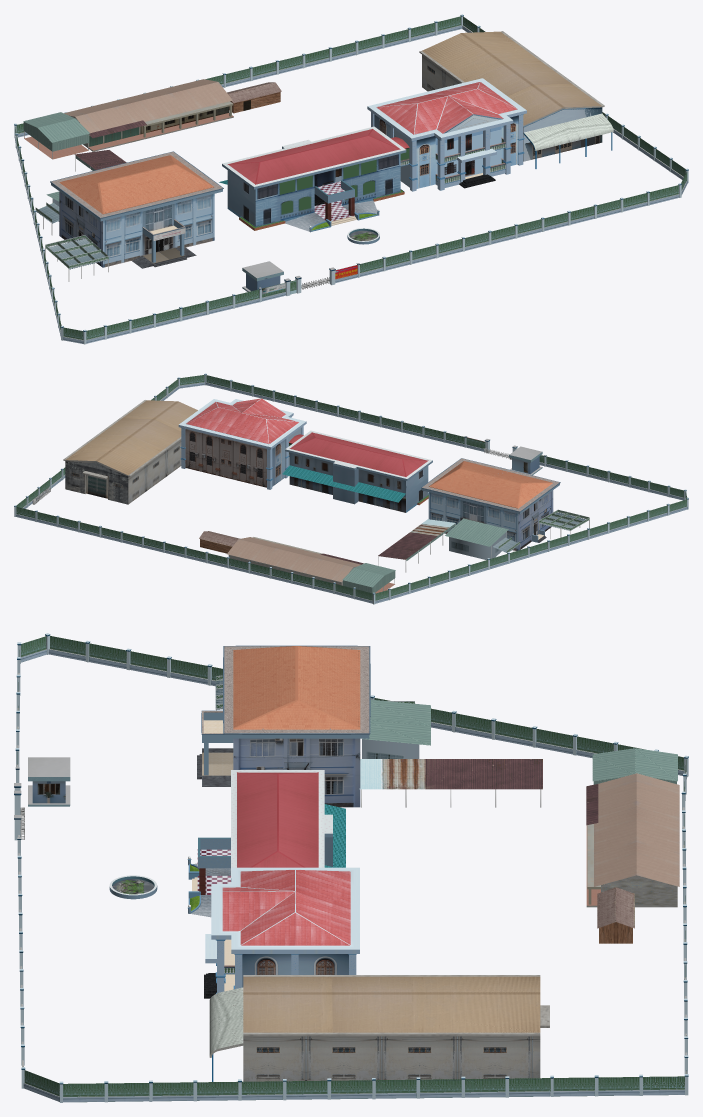
The model's file is Cong Ty Co Phan Cap Thoat Nuoc Binh Phuoc.glb.
The picture shows the model from 3 angles, top to bottom: view 1: azimuth 30°, elevation 25°; view 2: azimuth 150°, elevation 25°; view 3: azimuth 270°, elevation 25°; orthographic projection. The views are drawn at different scales.
Visible parts, largest first — view 1: 1, 5, 4, 3, 2, 6.001, 6; view 2: 1, 2, 3, 4, 5, 6.001, 6; view 3: 2, 1, 5, 3, 6.001, 4, 6, 4.001.
Boxes of the visible parts, x1,y1,x2,y2 form: 1: (14, 14, 688, 344); 5: (50, 151, 223, 268); 4: (219, 126, 406, 232); 3: (367, 78, 526, 191); 2: (419, 31, 613, 168); 6.001: (23, 79, 281, 159); 6: (35, 150, 126, 281); 1: (14, 373, 688, 604); 2: (63, 400, 197, 504); 3: (178, 398, 306, 489); 4: (282, 430, 432, 512); 5: (421, 458, 560, 550); 6.001: (199, 531, 395, 593); 6: (378, 509, 589, 572); 2: (209, 975, 549, 1081); 1: (14, 633, 688, 1102); 5: (197, 645, 370, 807); 3: (204, 867, 359, 998); 6.001: (586, 748, 679, 943); 4: (187, 770, 345, 917); 6: (215, 675, 542, 807); 4.001: (109, 875, 157, 899).
Size of the model in its own units: 131 by 13.37 by 82.92.
6 materials, 6 textured.
